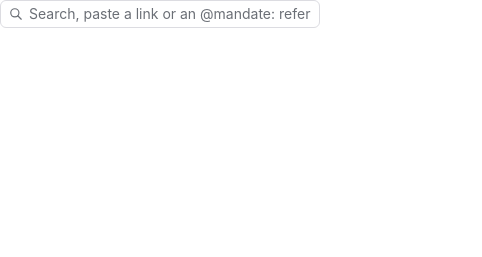
Scenario: Lineage element picker › searches, groups with headers, moves with the arrow keys and picks with Enter
The width and height of the screenshot is (482, 257).
Later steps or results of the test are not shown.
Type "login" into the field named "Pick an element" at [170, 14], box x1=29 y1=4 x2=311 y2=24
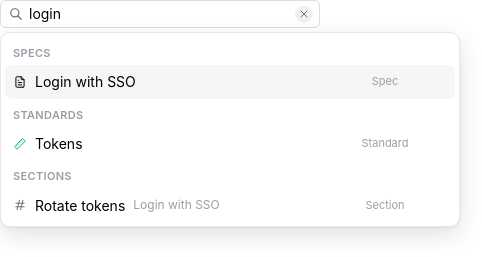
Expected: the number of elements with test id "picker-group" is 3, x1=5 y1=37 x2=455 y2=99; x1=5 y1=99 x2=455 y2=160; x1=5 y1=160 x2=455 y2=222
Expected: the option "Rotate tokens Login with SSO Section" is shown, x1=5 y1=188 x2=455 y2=222
